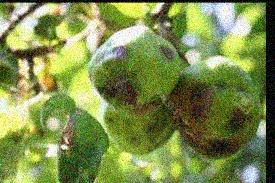rotten apple: (168, 56, 261, 165), (81, 24, 183, 115)
